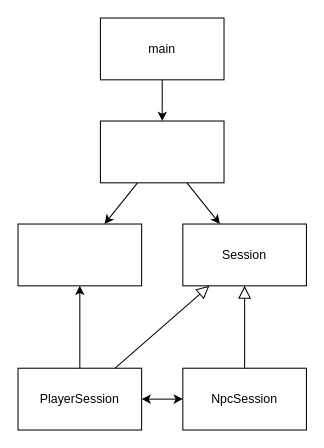
Image size: 324x448. Some labels were removed from this diagram. The centre of each missing label's shape, as x and y in pixels:
DB: pixel 79 254
Server: pixel 161 151
